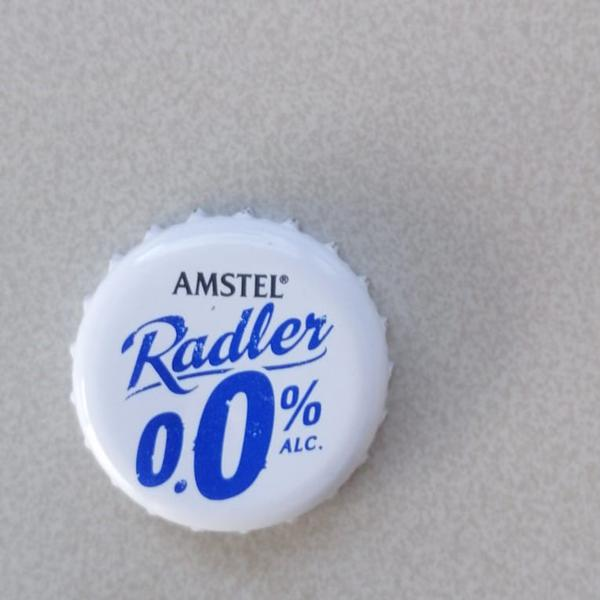amstelradler0.0: (62, 206, 404, 546)
